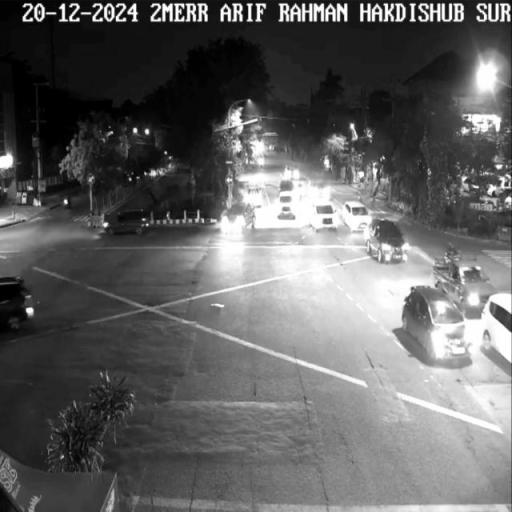car: (400, 285, 468, 369), (432, 260, 500, 309), (0, 274, 38, 339), (483, 290, 512, 369), (366, 218, 410, 266), (102, 209, 152, 237)
